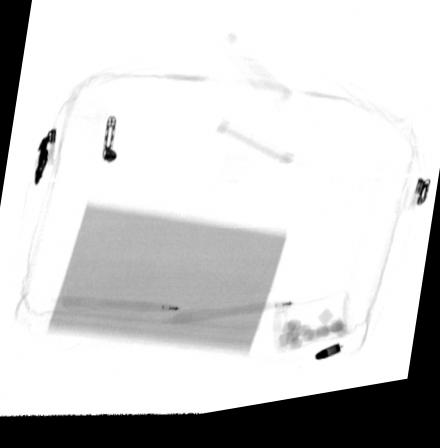Bullet: (314, 354, 344, 371)
